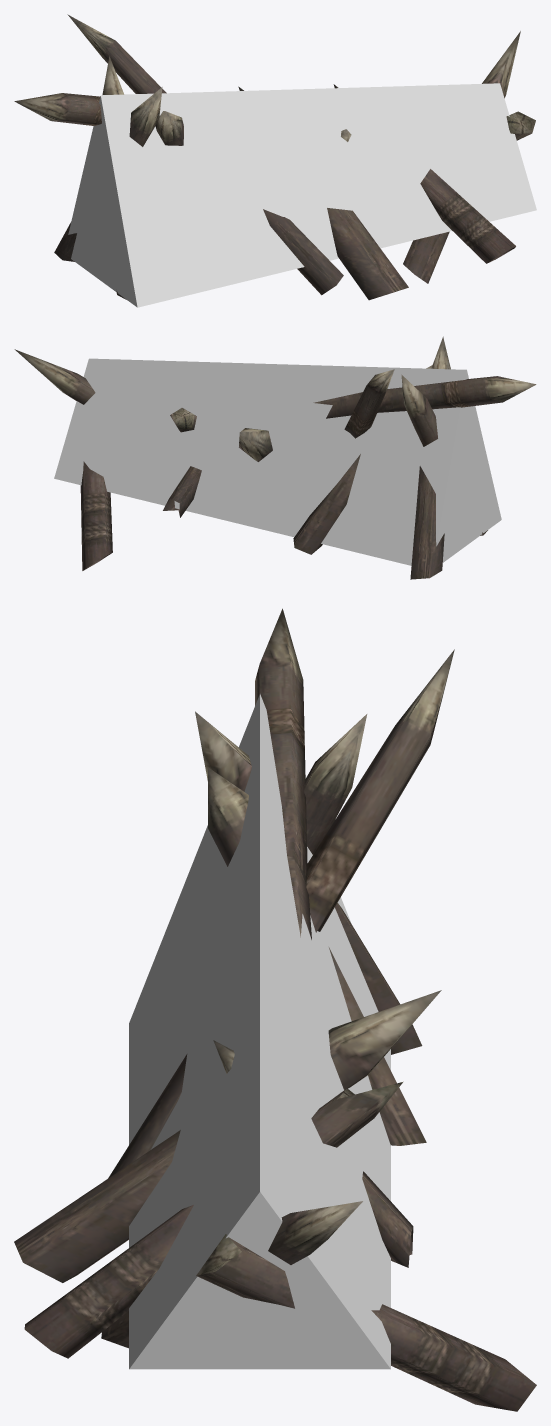
The model's file is Scene_Object_MuZhaLan_2.FBX.
3 views of the same model, one above another, from view 1: azimuth 30°, elevation 25°; view 2: azimuth 150°, elevation 25°; view 3: azimuth 270°, elevation 25° (orthographic). The views are drawn at different scales.
Parts seen in each view (by area): view 1: Scene_Object_MuZhaLan_2_Xzm, Scene_Object_MuZhaLan_2; view 2: Scene_Object_MuZhaLan_2_Xzm, Scene_Object_MuZhaLan_2; view 3: Scene_Object_MuZhaLan_2_Xzm, Scene_Object_MuZhaLan_2.
Boxes of the visible parts, left/top/right/bottom form: Scene_Object_MuZhaLan_2_Xzm: left=68, top=83, right=536, bottom=307; Scene_Object_MuZhaLan_2: left=14, top=14, right=535, bottom=300; Scene_Object_MuZhaLan_2_Xzm: left=54, top=358, right=501, bottom=565; Scene_Object_MuZhaLan_2: left=14, top=336, right=536, bottom=579; Scene_Object_MuZhaLan_2_Xzm: left=129, top=694, right=390, bottom=1369; Scene_Object_MuZhaLan_2: left=14, top=608, right=536, bottom=1411.
Bounding box in the file's own units: 396 × 198 × 191.
Materials: 1 (1 with a texture image).
